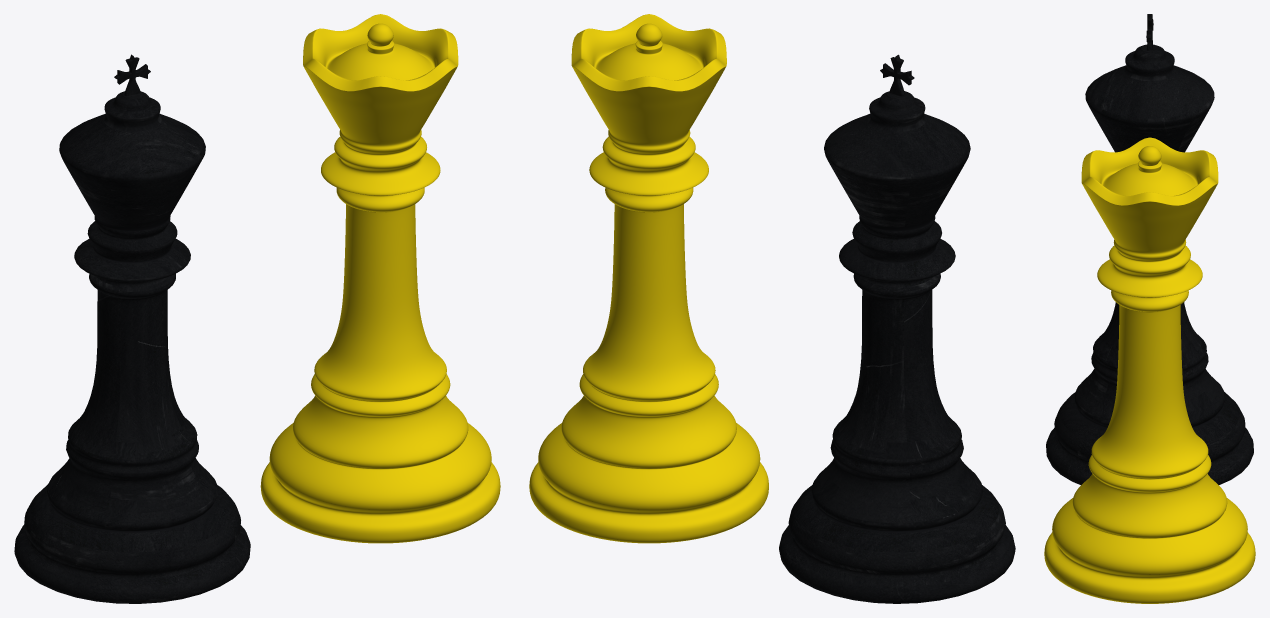
The model's file is stauton.glb.
The picture shows the model from 3 angles, left to right: view 1: azimuth 30°, elevation 25°; view 2: azimuth 150°, elevation 25°; view 3: azimuth 270°, elevation 25°; orthographic projection. The views are drawn at different scales.
Visible parts, largest first — view 1: dama, king; view 2: dama, king; view 3: dama, king.
Part boxes in pixels (x1,y1,x2,y2): dama: (260, 14, 500, 543); king: (14, 54, 250, 603); dama: (529, 14, 768, 543); king: (779, 54, 1015, 603); dama: (1044, 137, 1255, 603); king: (1046, 14, 1253, 484).
Bounding box in the file's own units: 26.72 × 28.4 × 12.21.
Materials: 2 (1 with a texture image).
